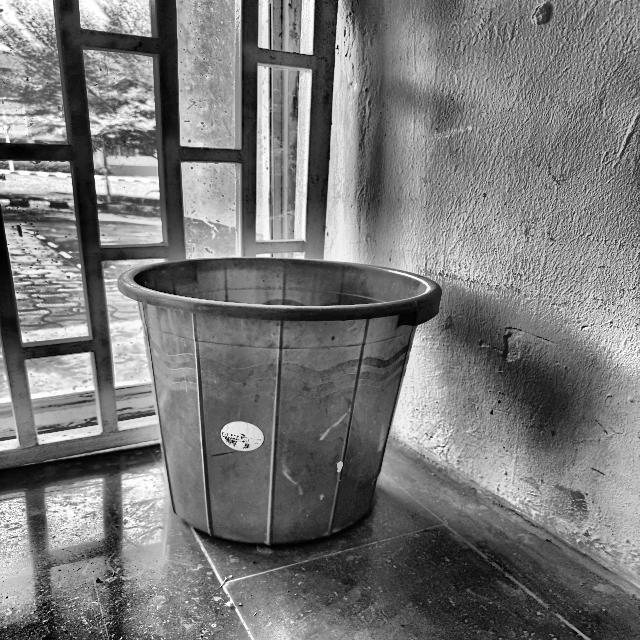wastebin: (105, 245, 481, 576)
